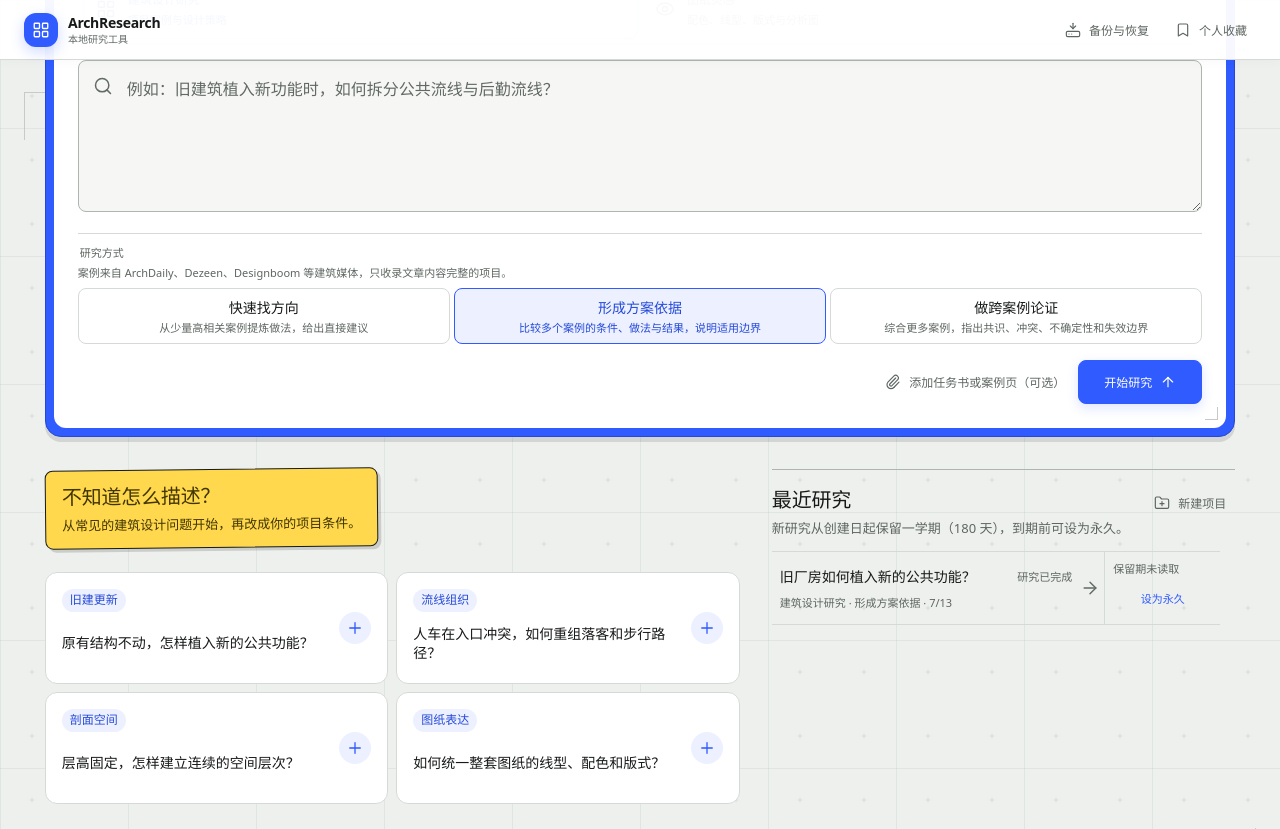
Scenario: research board › leads each subquestion with one conclusion before its complete case answers
The image size is (1280, 829).
(page scrolled)
Click the button "旧厂房如何植入新的公共功能？ 建筑设计研究 · 形成方案依据 · 7/13 研究已完成" at (938, 588), box [772,552,1104,624]
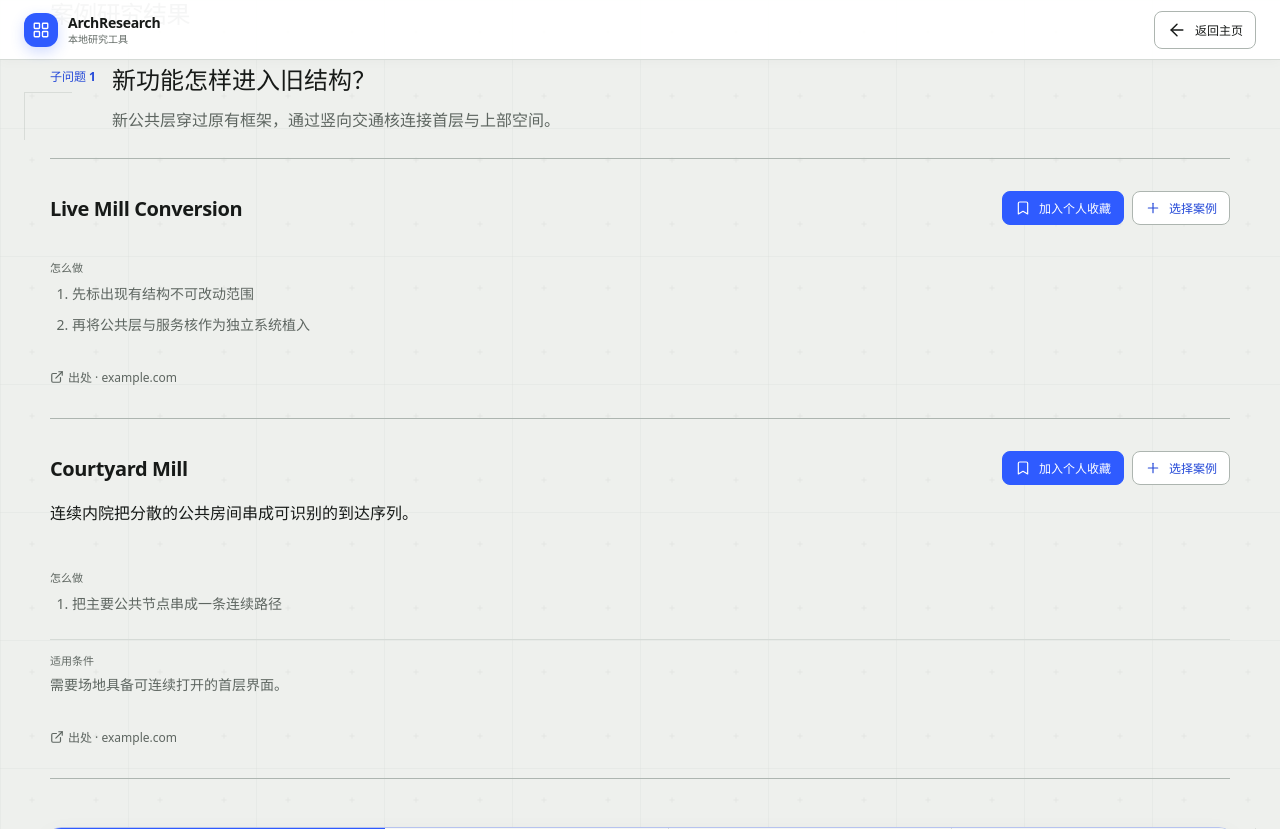
Expected: the element named "代表案例 Courtyard Mill" is shown, [50,419,1230,778]
Expected: the element with id "case-chapter-program" is shown
Expected: the header with class "case-chapter-heading" shows "新公共层穿过原有框架，通过竖向交通核连接首层与上部空间。", [112,109,560,131]
